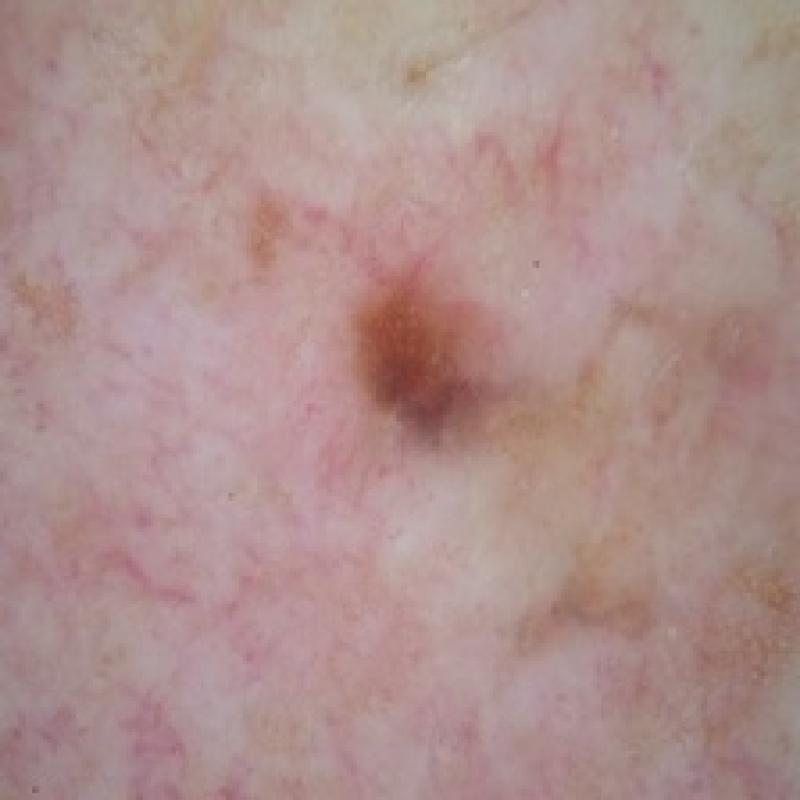malignant: (268, 172, 545, 539)
